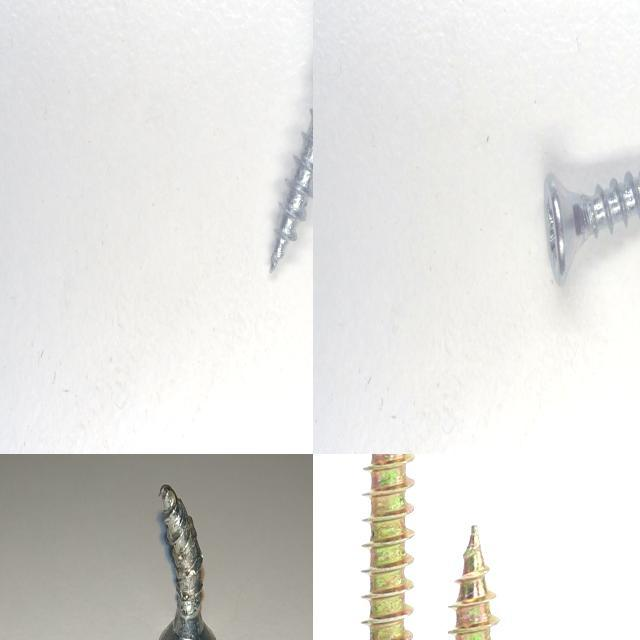Screw: (544, 171, 640, 285), (365, 454, 415, 640), (159, 484, 216, 640), (270, 108, 313, 271), (450, 525, 499, 640)
